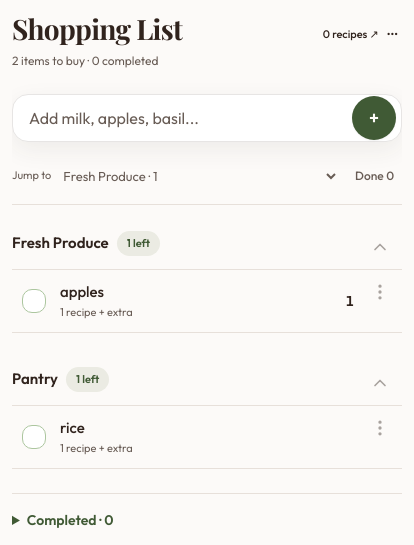
it: ShoppingListView orchestration › uses progress jump chips to reopen and scroll to an active category
Step 1. Click the button named "Collapse Pantry category" → click(380, 383), box [358,361,402,405]
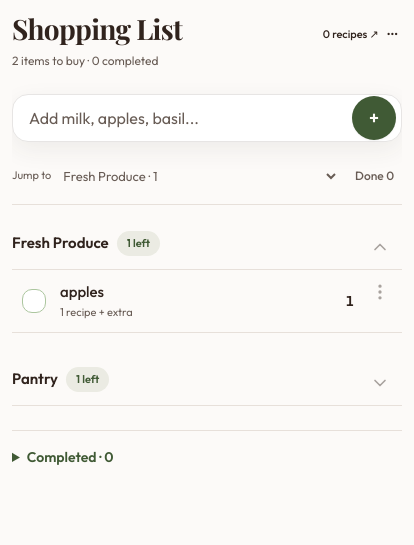
Now the button "rice" is gone
Step 2. Select "Pantry · 1" in the dropdown labelled "Jump to" → (199, 176), box [59,154,339,198]
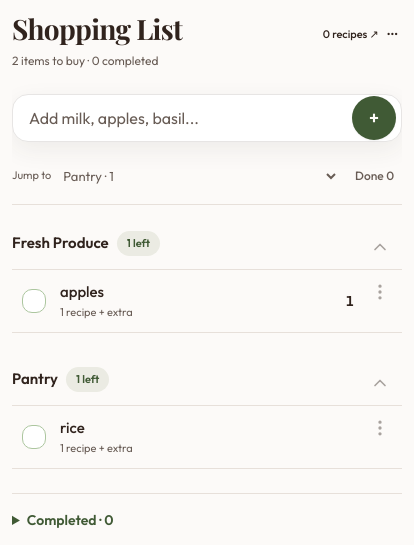
Now the text "rice" is shown, box [60,418,85,436]
